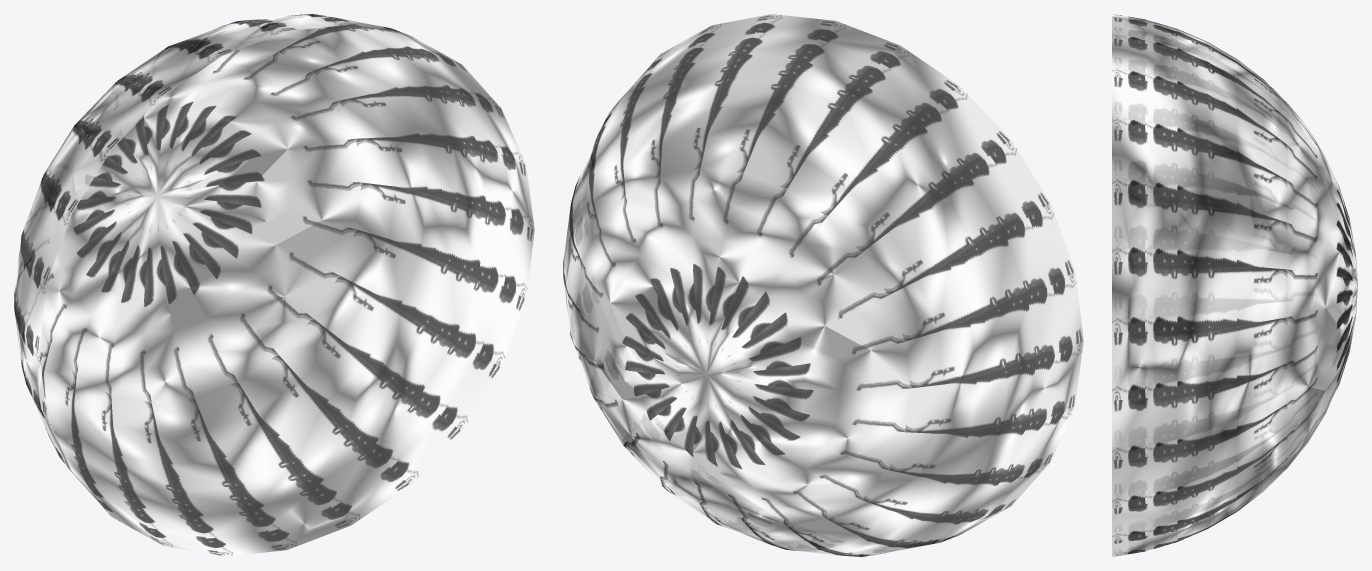
The model's file is model_align.obj.
3 renders of one model, left to right at view 1: azimuth 30°, elevation 25°; view 2: azimuth 150°, elevation 25°; view 3: azimuth 270°, elevation 25°, orthographic. The views are drawn at different scales.
Bounding box in the file's own units: 0.165 × 0.165 × 0.0744.
